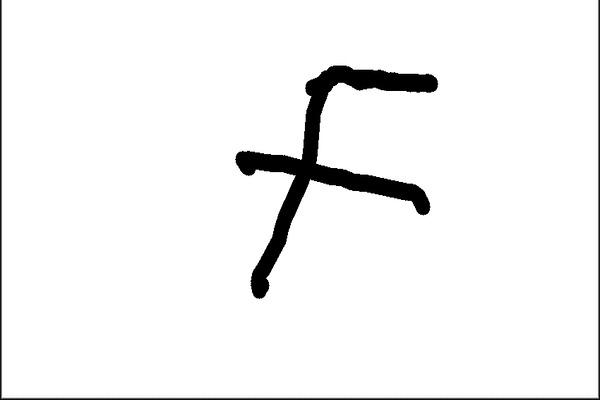F: (231, 62, 441, 302)
